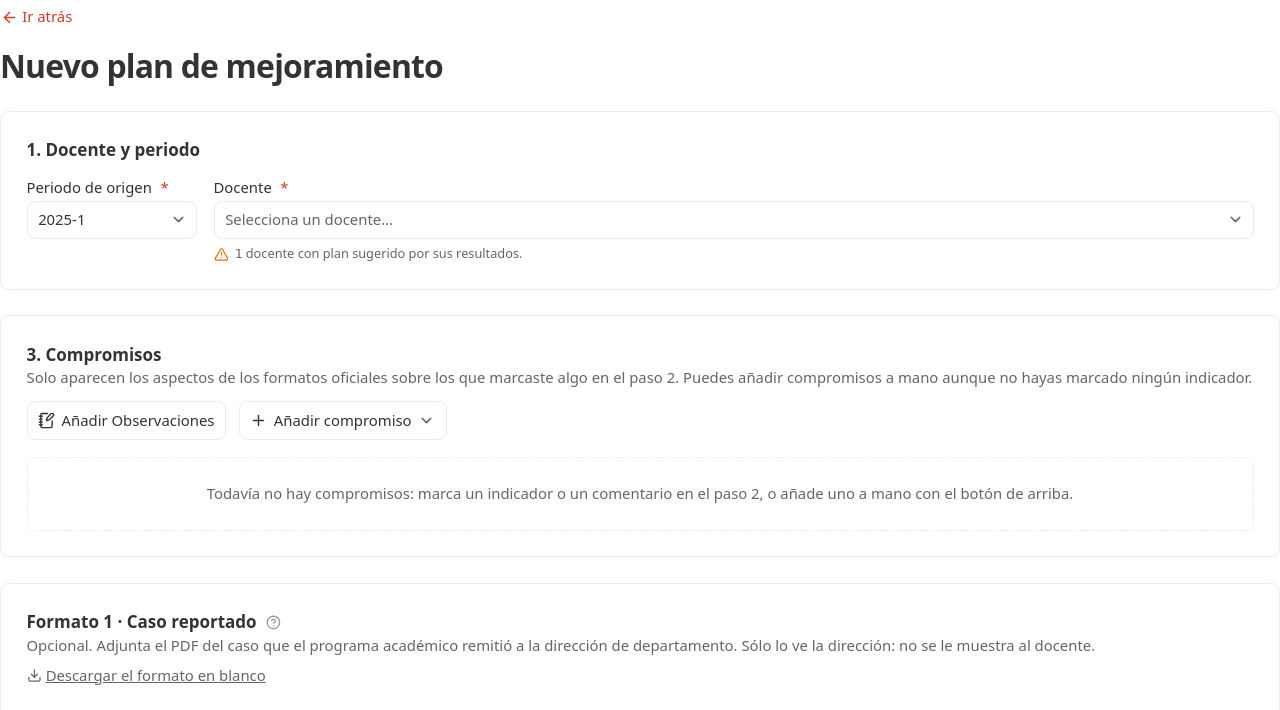
Test: PlanFormPage · creación › abre el diálogo en la observación que se pide editar
This screenshot has width=1280, height=710.
Click the button "Añadir Observaciones".
click(126, 421)  # box [26, 401, 226, 440]
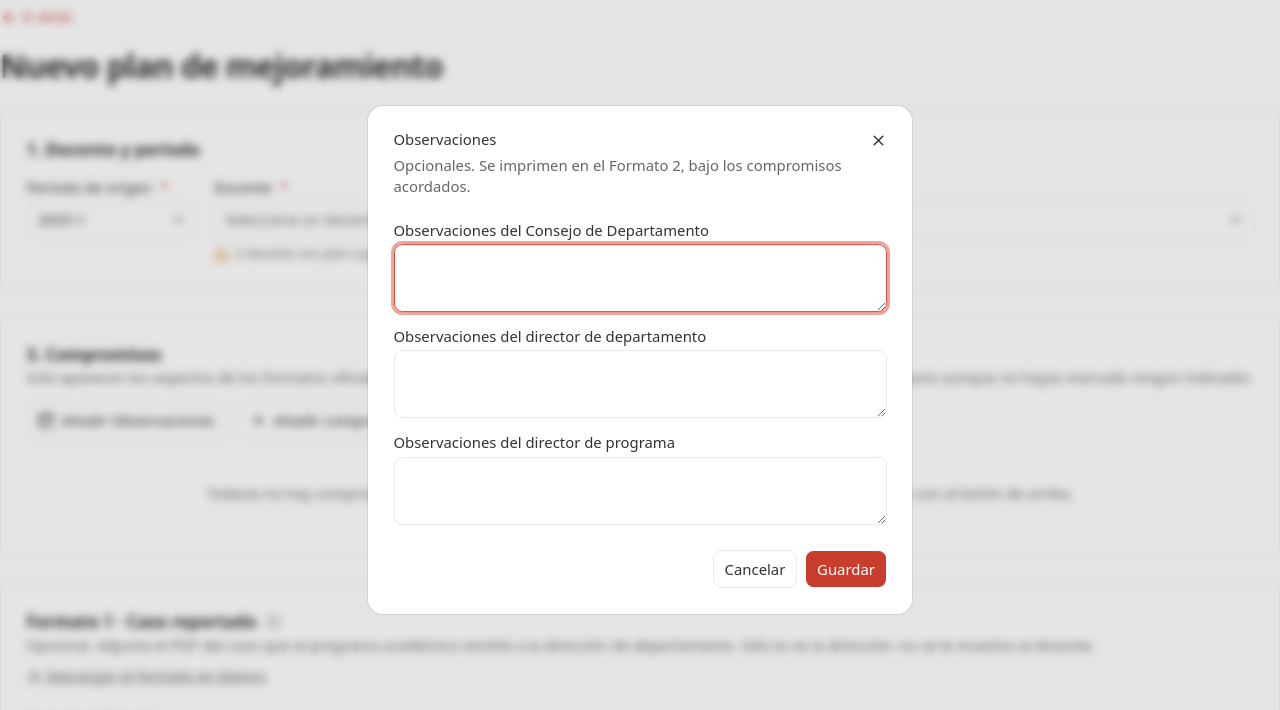
Type "Desde el programa" into the text box labelled "Observaciones del director de programa".
click(640, 491); type("Desde el programa")  # box [394, 457, 886, 525]
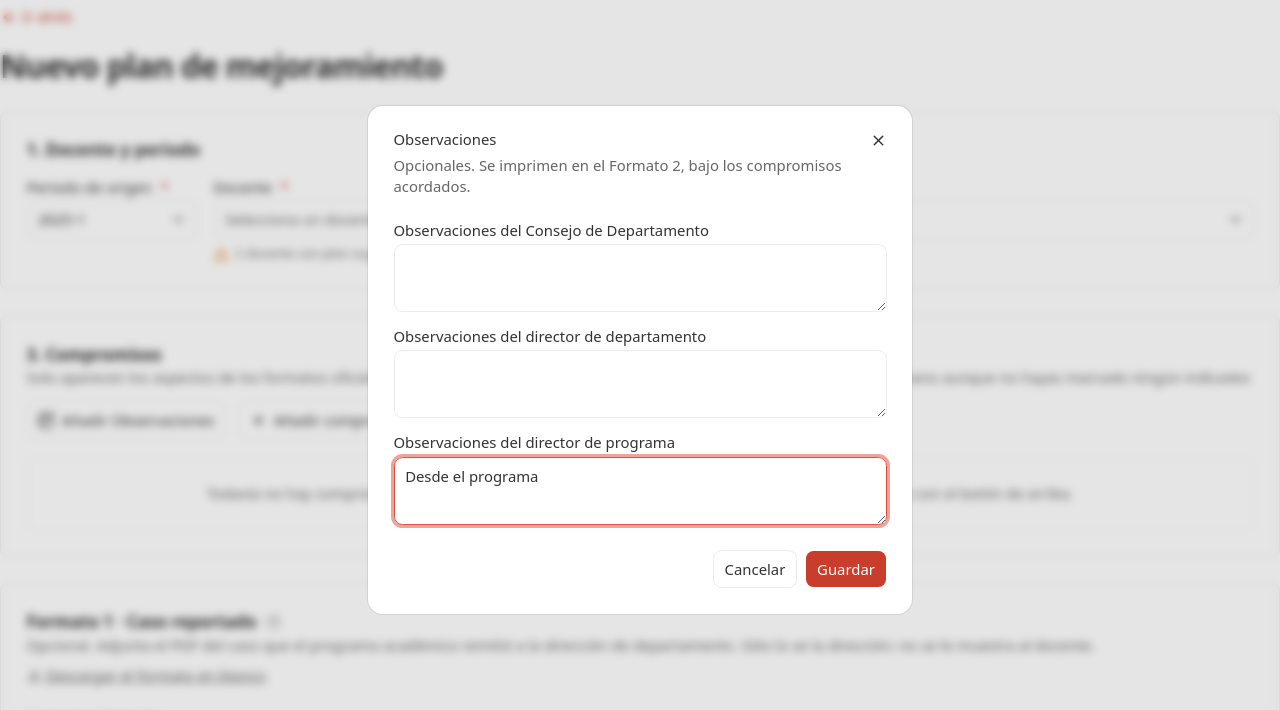
Click the button "Guardar".
click(846, 569)  # box [806, 550, 886, 588]
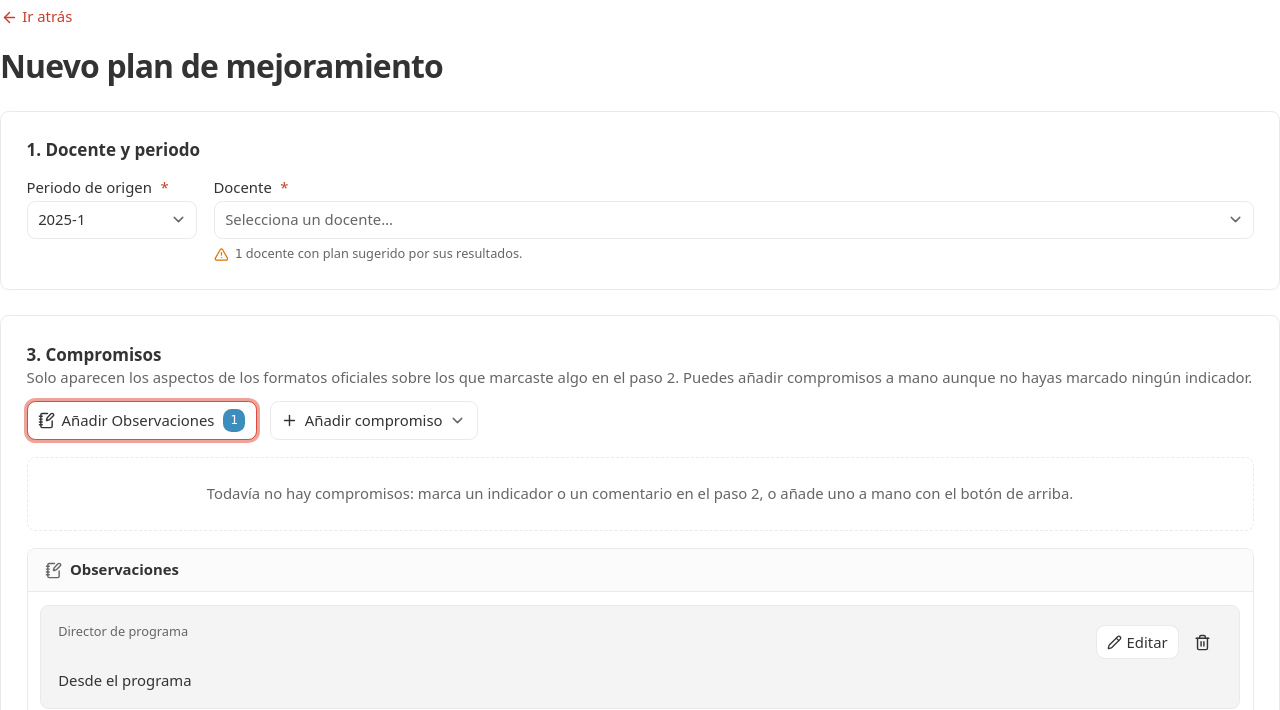
Click the button with aria-label "Editar la observación del director de programa".
click(1138, 642)  # box [1096, 625, 1179, 659]
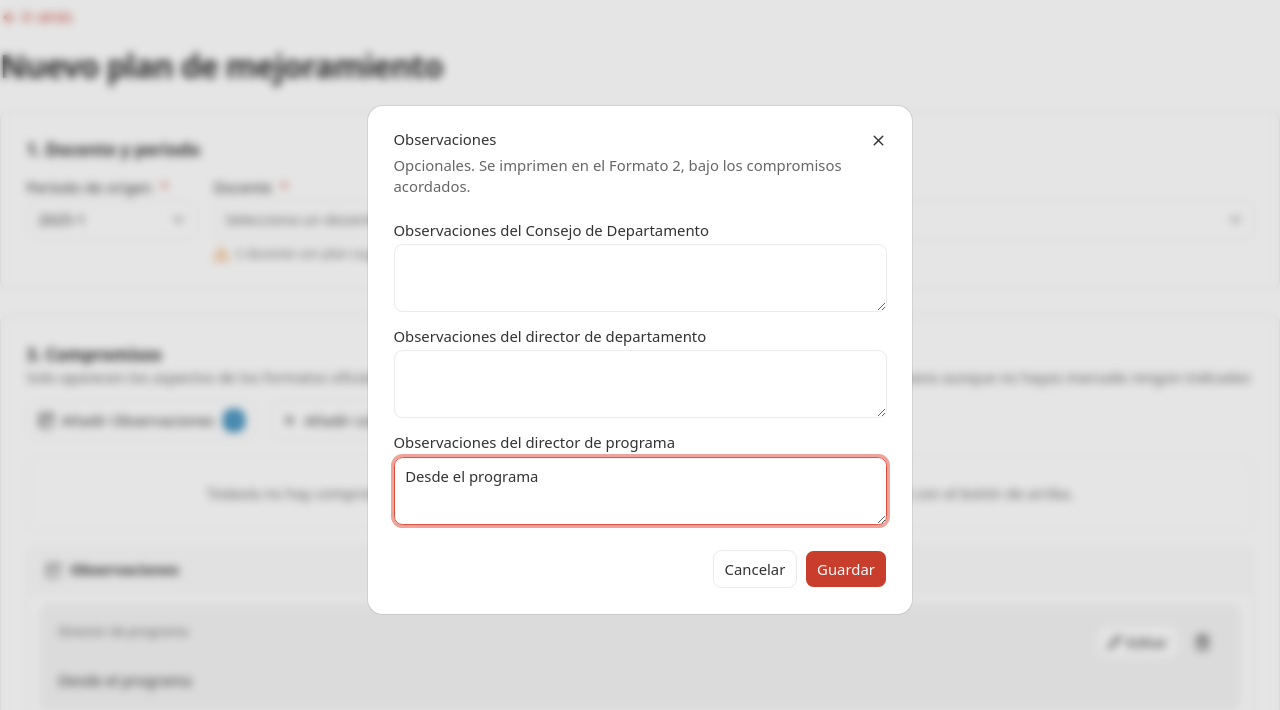
Expected: the text box labelled "Observaciones del director de programa" holds "Desde el programa", [394, 457, 886, 525]
